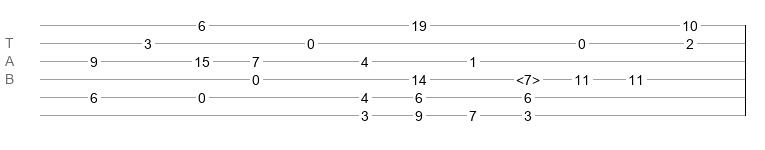0: (198, 90, 206, 100), (252, 72, 260, 82), (307, 36, 315, 46), (578, 36, 586, 46)
1: (469, 54, 477, 64)
10: (682, 18, 698, 28)
11: (574, 72, 590, 82), (628, 72, 644, 82)
14: (411, 72, 427, 82)
15: (194, 54, 210, 64)
19: (411, 18, 427, 28)
2: (686, 36, 694, 46)
3: (144, 36, 152, 46), (361, 108, 369, 118), (524, 108, 532, 118)
4: (361, 90, 369, 100), (361, 54, 369, 64)
6: (90, 90, 98, 100), (198, 18, 206, 28), (415, 90, 423, 100), (524, 90, 532, 100)
7: (252, 54, 260, 64), (469, 108, 477, 118)
9: (90, 54, 98, 64), (415, 108, 423, 118)
harmonic: (516, 72, 540, 82)
